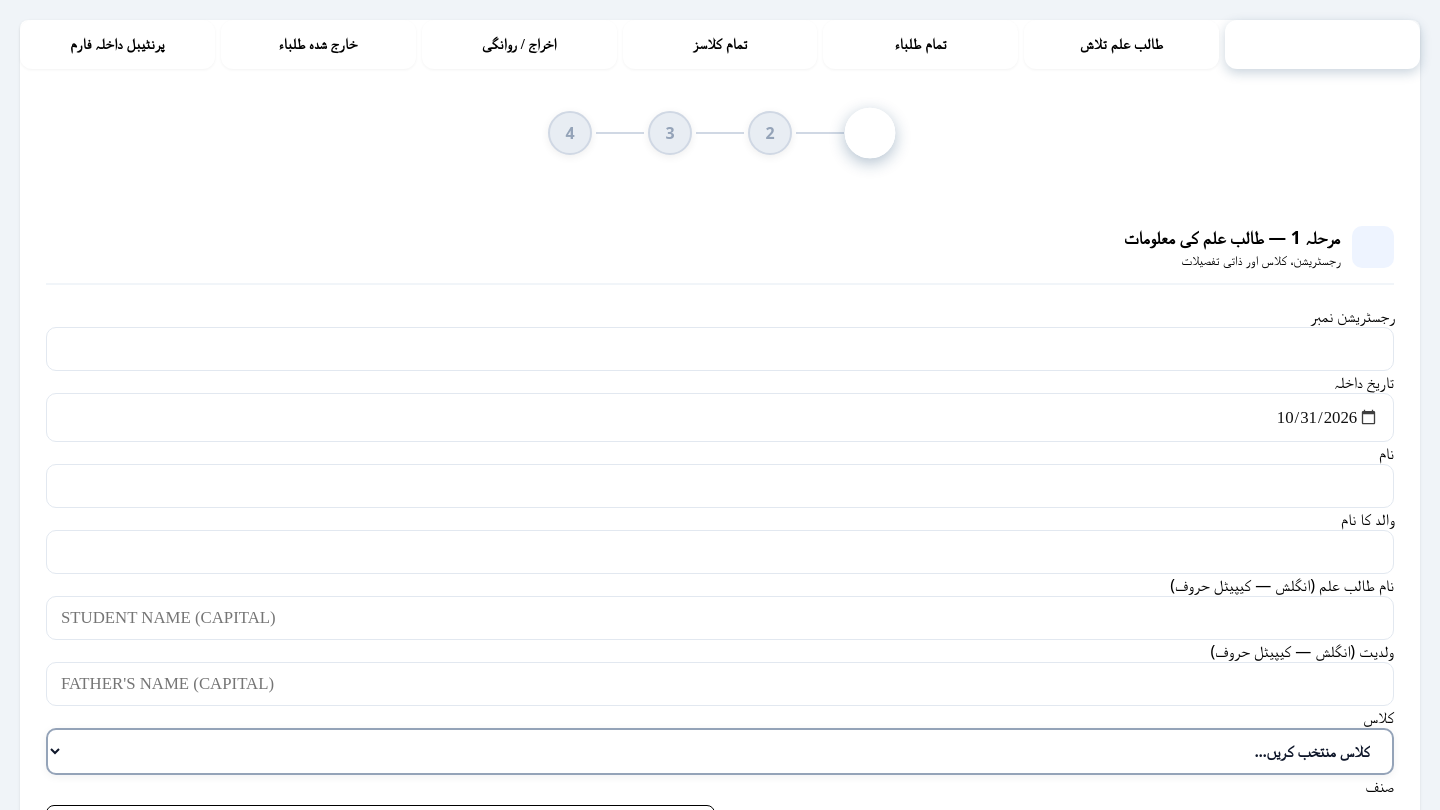
Test: Classes Management in Admissions ("All Classes" tab) › allows deleting a class
The width and height of the screenshot is (1440, 810).
Click the button "تمام کلاسز" at coordinates (720, 44), box [623,20,818,69]
(page scrolled)
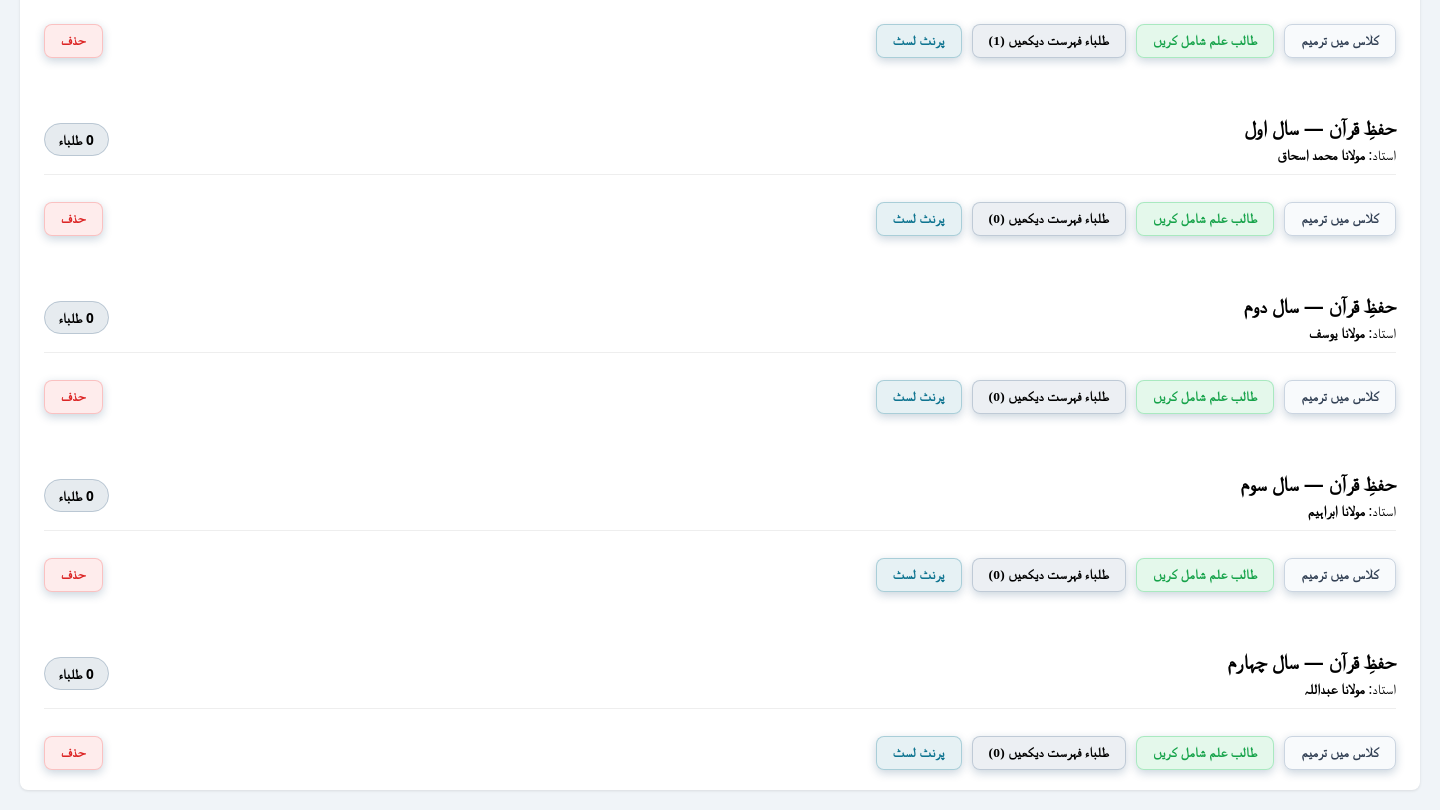
Now the heading "حفظِ قرآن — سال چہارم" is shown, box [1227,648,1396,675]
Click the 5th button "حذف" at coordinates (73, 753), box [44,736,103,770]
(page scrolled)
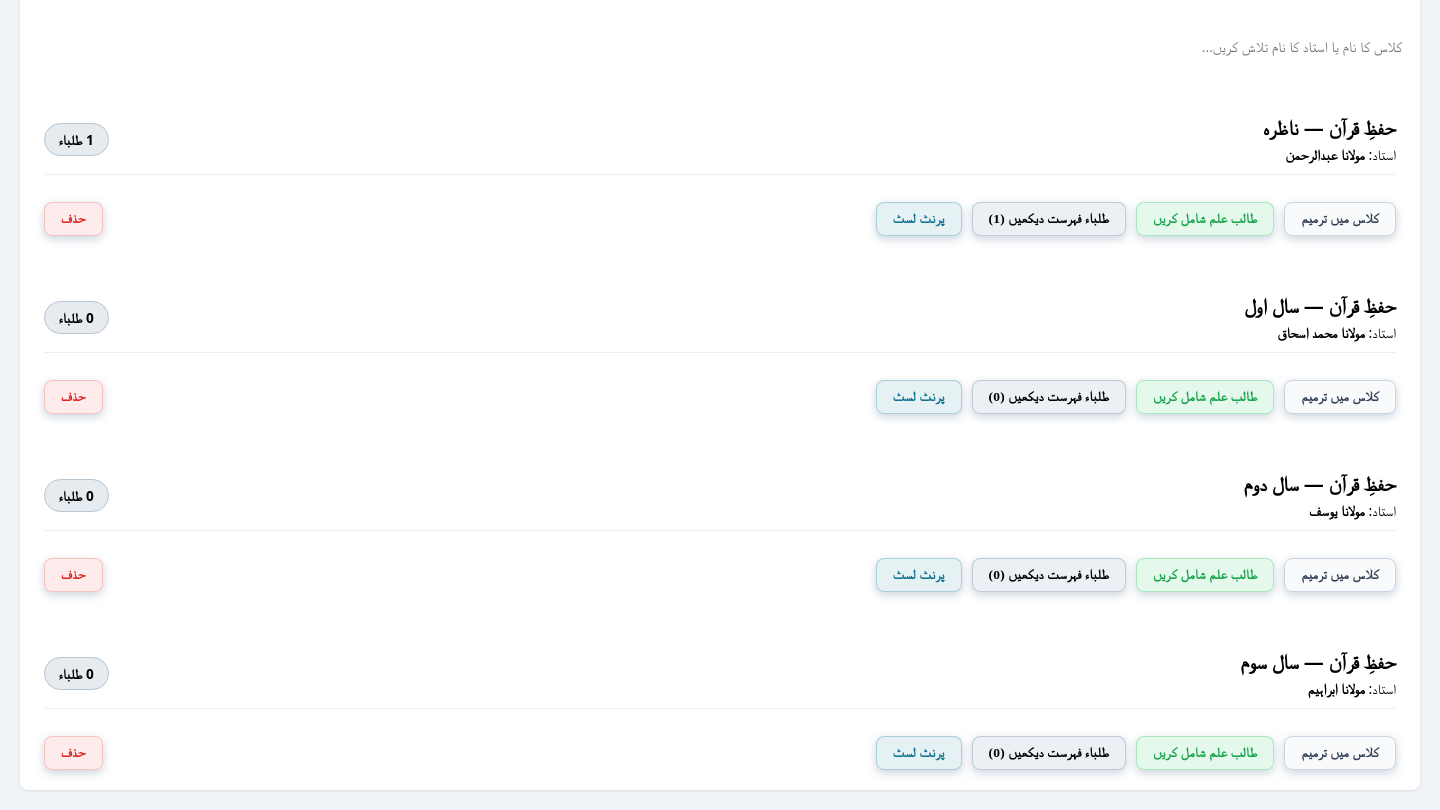
Now the heading "حفظِ قرآن — سال چہارم" is gone
